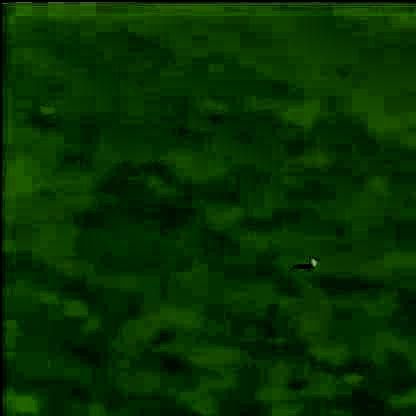golfball: (307, 255, 318, 266)
